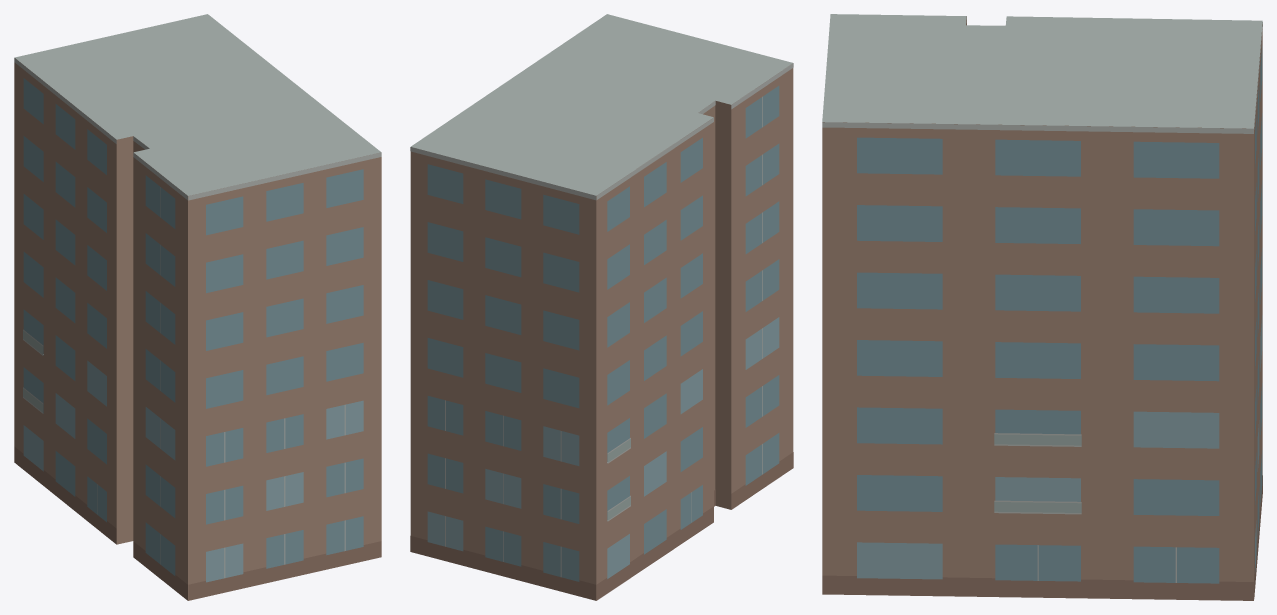
Rendered from survey-upis-32925351.glb.
3 renders of one model, left to right at view 1: azimuth 30°, elevation 25°; view 2: azimuth 150°, elevation 25°; view 3: azimuth 270°, elevation 25°, orthographic. The views are drawn at different scales.
Visible parts, largest first — view 1: survey-upis-32925351.tmp; view 2: survey-upis-32925351.tmp; view 3: survey-upis-32925351.tmp.
Boxes of the visible parts, x1=… form: survey-upis-32925351.tmp: x1=14, y1=14, x2=381, y2=600; survey-upis-32925351.tmp: x1=410, y1=14, x2=793, y2=600; survey-upis-32925351.tmp: x1=822, y1=14, x2=1262, y2=600.
Bounding box in the file's own units: 11.12 × 21.35 × 18.06.
